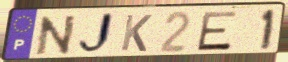1: (257, 8, 276, 52)
2: (158, 10, 194, 54)
E: (195, 10, 240, 53)
J: (76, 11, 116, 57)
K: (119, 13, 154, 53)
N: (35, 14, 79, 57)
